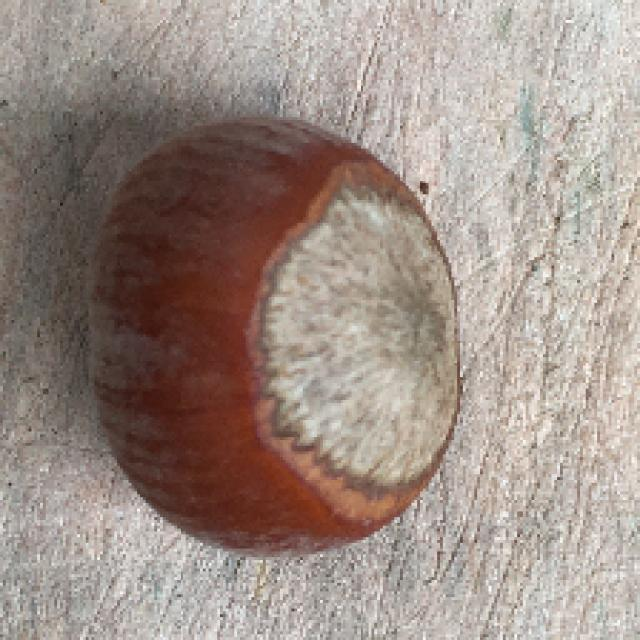qualityHazelnut: (86, 116, 462, 563)
